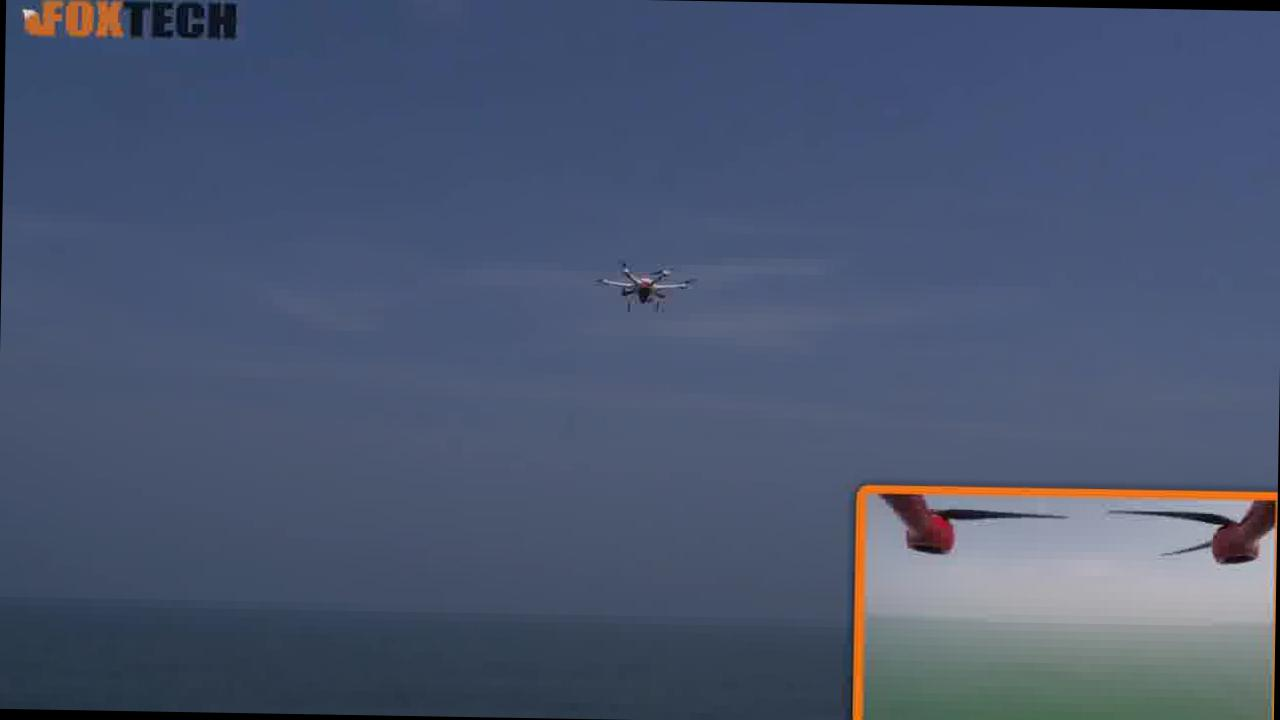drone: (594, 236, 696, 327)
